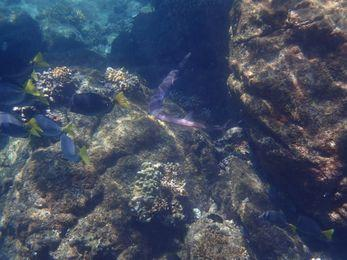Fistularia commersonii: (130, 46, 223, 148)
